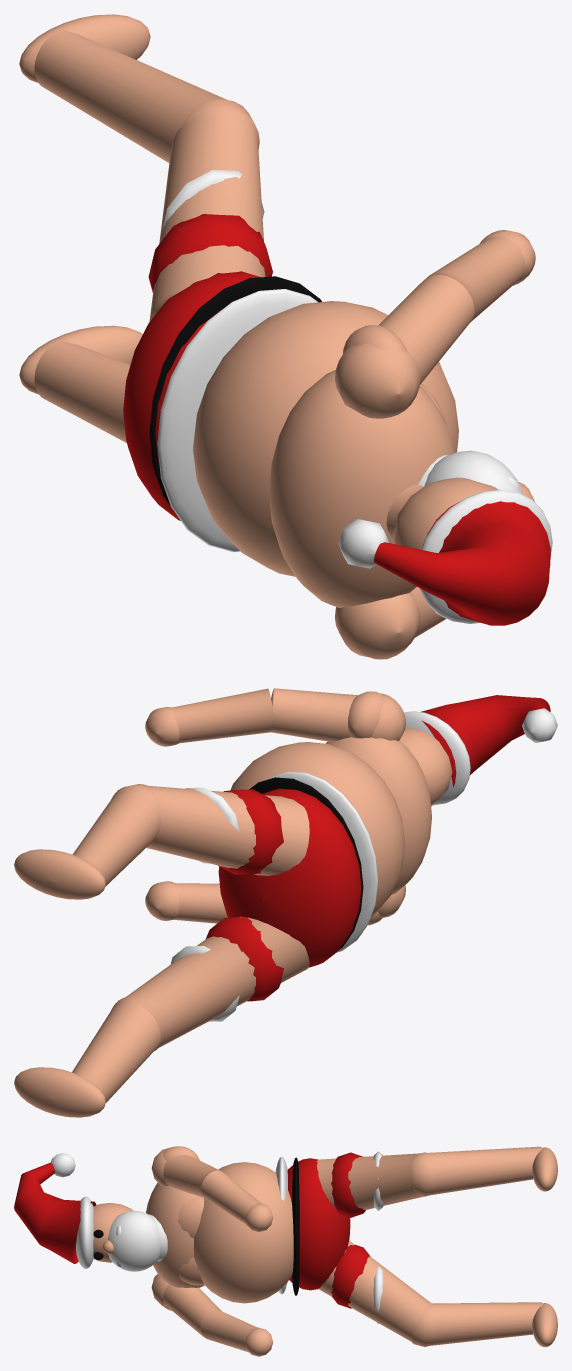
The model's file is rider_santa.obj.
3 renders of one model, top to bottom at view 1: azimuth 30°, elevation 25°; view 2: azimuth 150°, elevation 25°; view 3: azimuth 270°, elevation 25°, orthographic. The views are drawn at different scales.
Size of the model in its own units: 78 by 73.6 by 190.
